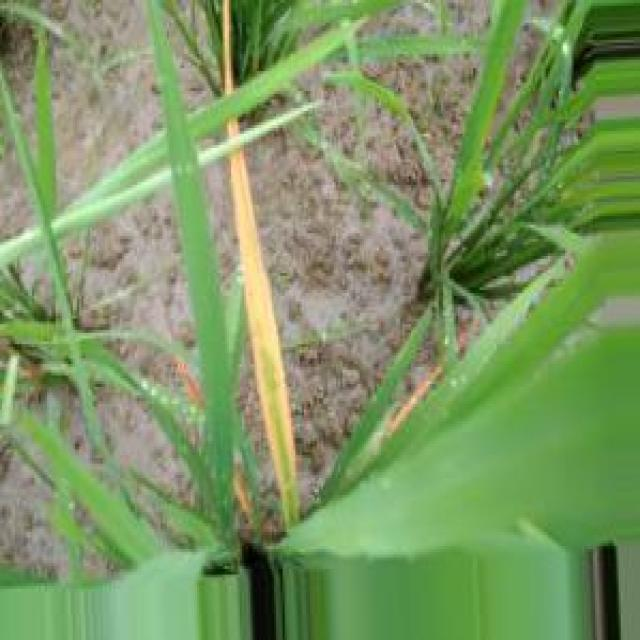Rice Tungro: (230, 150, 300, 526), (223, 0, 234, 95)
